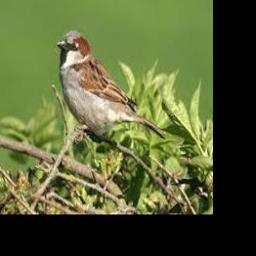Sparrow: (57, 30, 167, 141)
